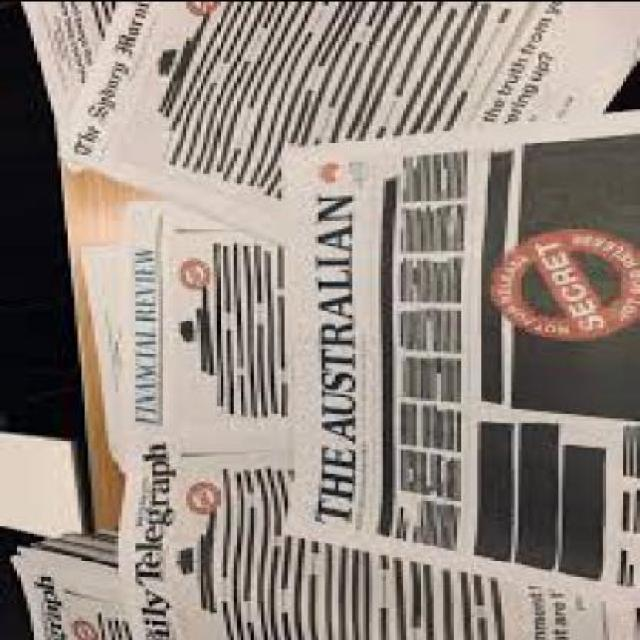PAPER: (285, 110, 637, 612), (55, 2, 636, 255), (116, 443, 638, 639), (102, 202, 278, 448), (14, 2, 118, 178), (74, 243, 135, 474), (11, 550, 123, 638), (0, 436, 71, 542), (14, 528, 118, 568)
